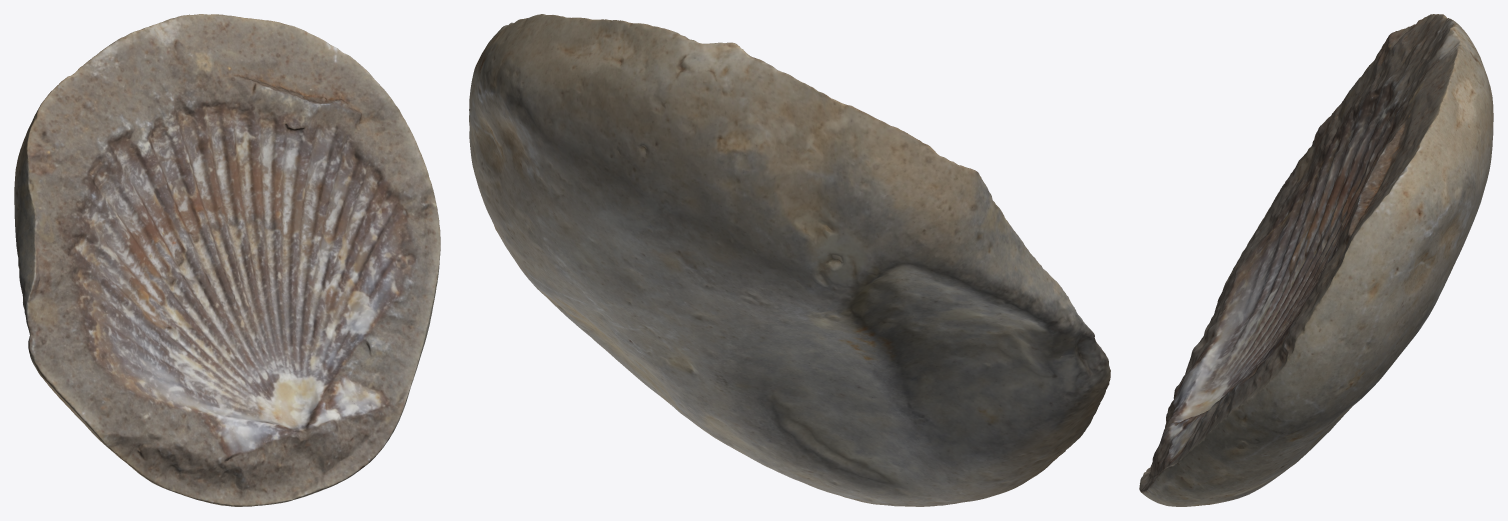
Rendered from fossil-shell.glb.
The picture shows the model from 3 angles, left to right: view 1: azimuth 30°, elevation 25°; view 2: azimuth 150°, elevation 25°; view 3: azimuth 270°, elevation 25°; orthographic projection. The views are drawn at different scales.
Parts seen in each view (by area): view 1: rock3; view 2: rock3; view 3: rock3.
Boxes of the visible parts, x1,y1,x2,y2 form: rock3: [14, 14, 440, 506]; rock3: [469, 14, 1110, 506]; rock3: [1139, 14, 1493, 506].
Bounding box in the file's own units: 24.78 × 22.54 × 16.09.
Materials: 1 (1 with a texture image).
